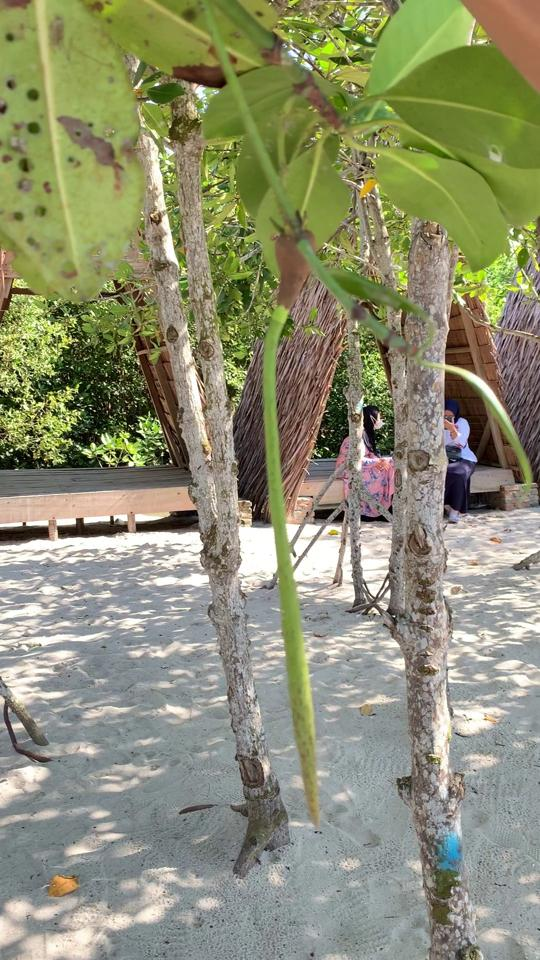setengah matang: (243, 208, 338, 837)
